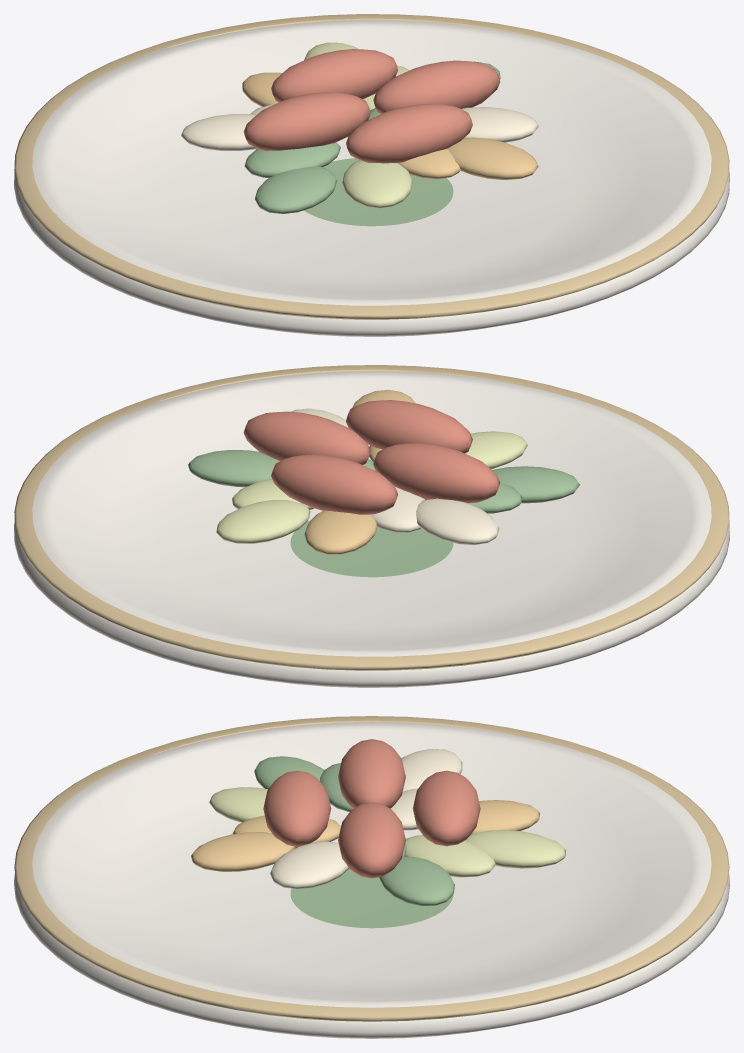
Rendered from zesty-avo-table.glb.
3 views of the same model, one above another, from view 1: azimuth 30°, elevation 25°; view 2: azimuth 150°, elevation 25°; view 3: azimuth 270°, elevation 25° (orthographic).
Visible parts, largest first — view 1: Wide ceramic serving plate, Hand-painted plate rim, Grilled protein.002, Grilled protein.003, Grilled protein, Grilled protein.001, Sauce well, Avocado and crisp salad.012, Avocado and crisp salad.010, Avocado and crisp salad.007, Avocado and crisp salad.009, Avocado and crisp salad.004 (+3 smaller); view 2: Wide ceramic serving plate, Hand-painted plate rim, Grilled protein.001, Grilled protein.002, Sauce well, Grilled protein, Grilled protein.003, Avocado and crisp salad.011, Avocado and crisp salad.009, Avocado and crisp salad.008, Avocado and crisp salad.006, Avocado and crisp salad.012 (+5 smaller); view 3: Wide ceramic serving plate, Hand-painted plate rim, Sauce well, Grilled protein, Grilled protein.003, Grilled protein.001, Grilled protein.002, Avocado and crisp salad.010, Avocado and crisp salad.011, Avocado and crisp salad.005, Avocado and crisp salad.008, Avocado and crisp salad.003 (+7 smaller).
Part boxes in pixels (bbox=[...]): Wide ceramic serving plate: bbox=[14, 20, 729, 336]; Hand-painted plate rim: bbox=[14, 14, 729, 319]; Grilled protein.002: bbox=[243, 92, 370, 150]; Grilled protein.003: bbox=[346, 103, 472, 163]; Grilled protein: bbox=[373, 60, 500, 113]; Grilled protein.001: bbox=[271, 49, 397, 102]; Sauce well: bbox=[304, 158, 453, 226]; Avocado and crisp salad.012: bbox=[255, 166, 337, 213]; Avocado and crisp salad.010: bbox=[448, 137, 538, 179]; Avocado and crisp salad.007: bbox=[342, 160, 412, 208]; Avocado and crisp salad.009: bbox=[181, 114, 257, 150]; Avocado and crisp salad.004: bbox=[244, 142, 340, 178]; Wide ceramic serving plate: bbox=[14, 371, 729, 687]; Hand-painted plate rim: bbox=[14, 365, 729, 670]; Grilled protein.001: bbox=[271, 454, 397, 514]; Grilled protein.002: bbox=[373, 443, 500, 503]; Sauce well: bbox=[290, 520, 453, 577]; Grilled protein: bbox=[243, 411, 370, 464]; Grilled protein.003: bbox=[346, 400, 472, 453]; Avocado and crisp salad.011: bbox=[216, 500, 310, 543]; Avocado and crisp salad.009: bbox=[416, 498, 499, 544]; Avocado and crisp salad.008: bbox=[188, 450, 279, 487]; Avocado and crisp salad.006: bbox=[304, 510, 377, 554]; Avocado and crisp salad.012: bbox=[492, 466, 579, 503]; Wide ceramic serving plate: bbox=[14, 722, 729, 1038]; Hand-painted plate rim: bbox=[14, 716, 729, 1021]; Sauce well: bbox=[290, 868, 453, 928]; Grilled protein: bbox=[338, 802, 405, 878]; Grilled protein.003: bbox=[263, 770, 331, 846]; Grilled protein.001: bbox=[412, 770, 480, 846]; Grilled protein.002: bbox=[338, 739, 405, 808]; Avocado and crisp salad.010: bbox=[191, 832, 295, 871]; Avocado and crisp salad.011: bbox=[466, 830, 565, 868]; Avocado and crisp salad.005: bbox=[270, 841, 349, 889]; Avocado and crisp salad.008: bbox=[379, 856, 454, 905]; Avocado and crisp salad.003: bbox=[405, 835, 495, 877].
Bounding box in the file's own units: 1.05 × 0.213 × 1.05.
